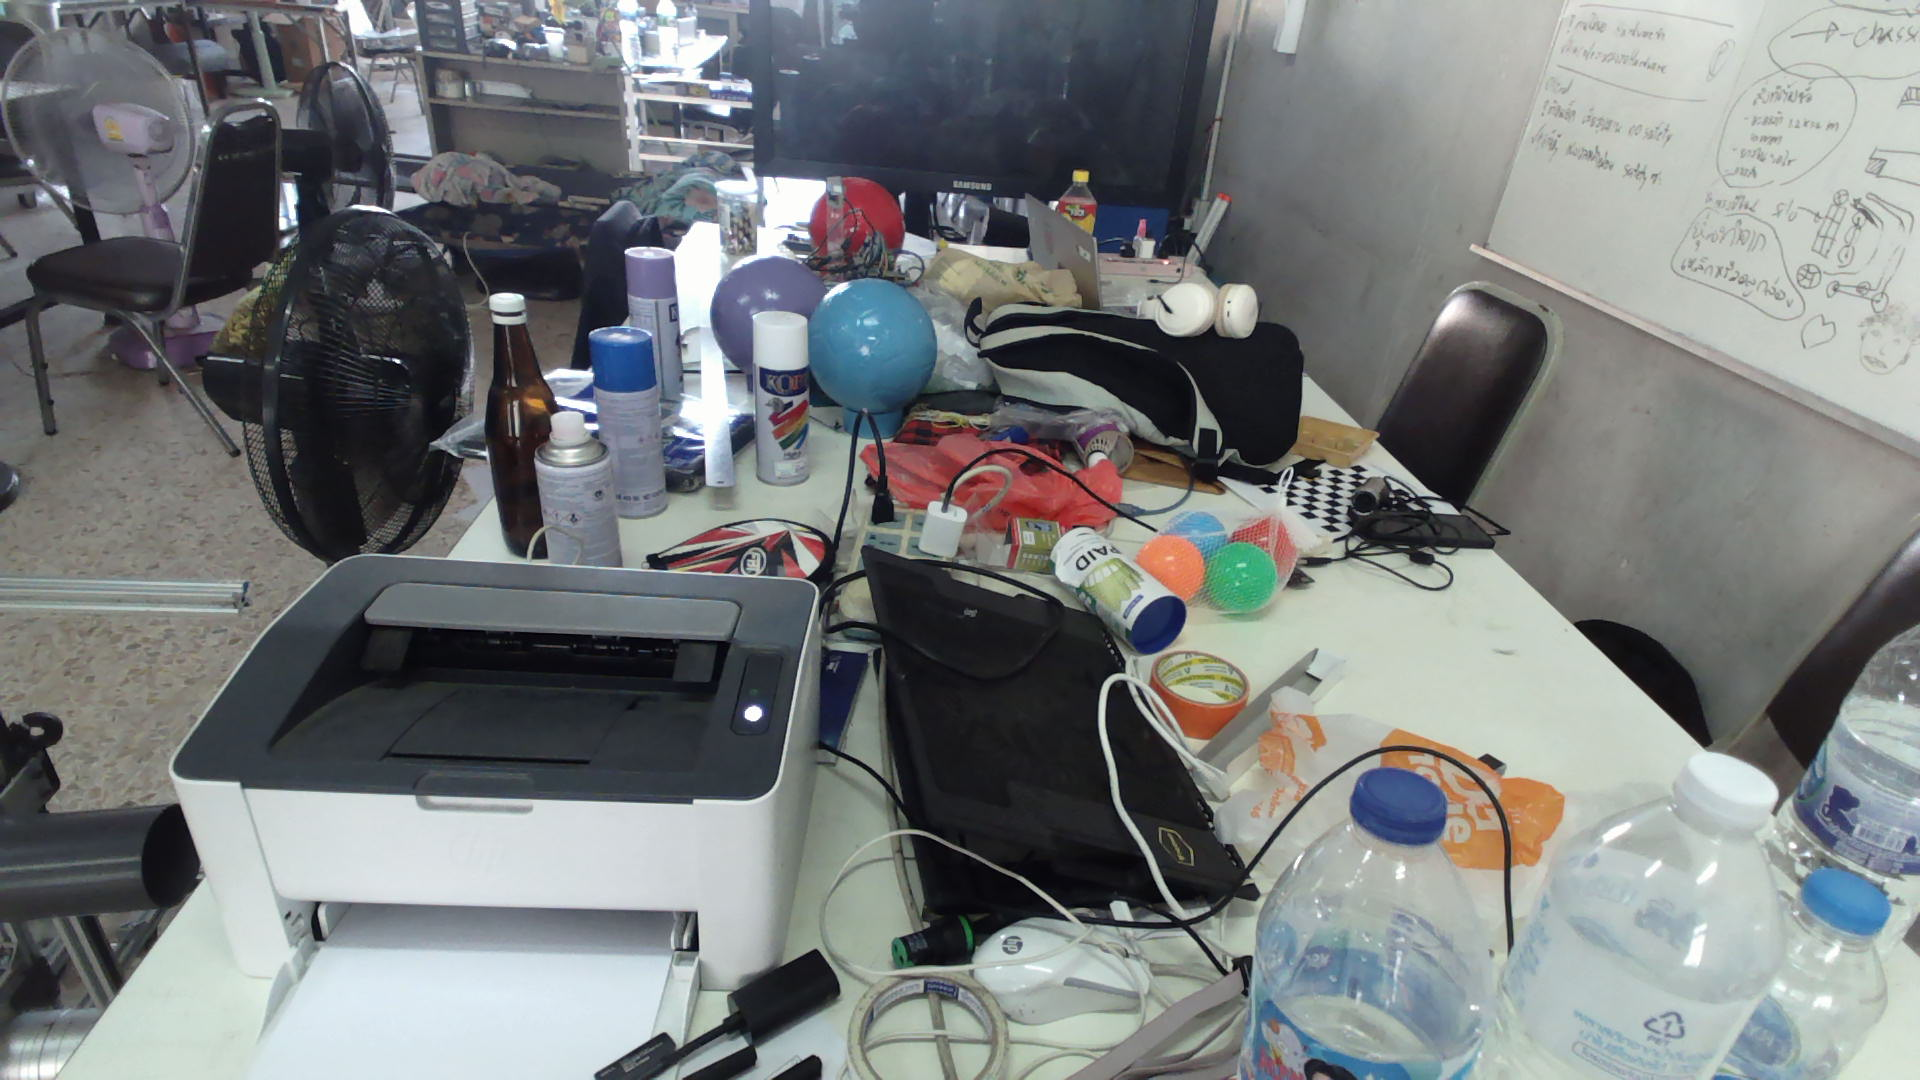Blue ball: (806, 276, 939, 414)
Purple ball: (709, 253, 829, 349)
Red ball: (808, 174, 909, 240)
